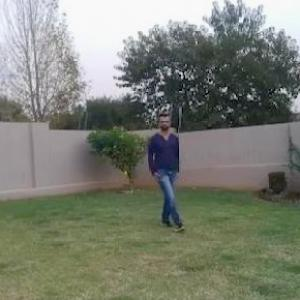follow: (150, 114, 183, 225)
